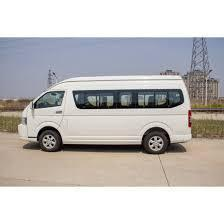Van: (16, 77, 195, 160)
